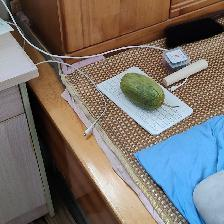gua: (121, 70, 168, 108)
